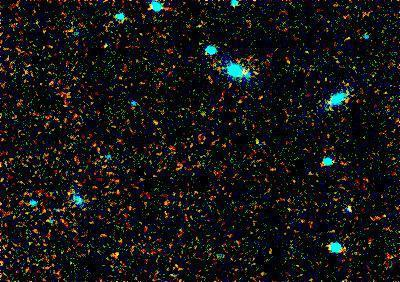star: (100, 242, 130, 272)
